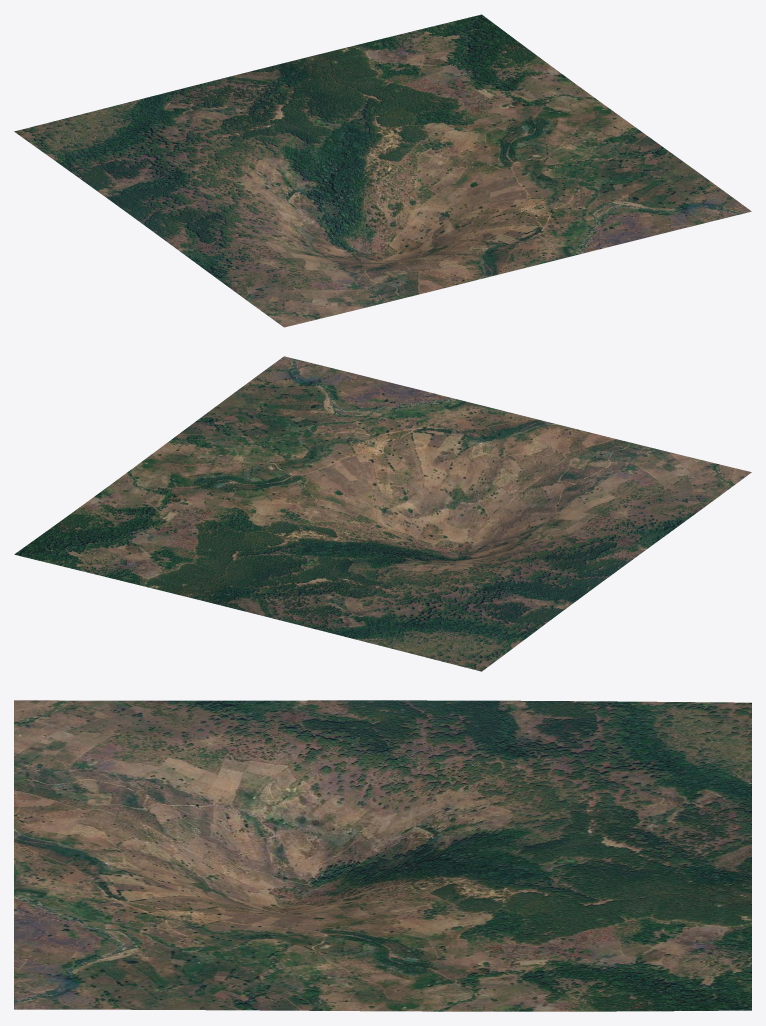
Rendered from terrain_real_T_W05_N01.glb.
3 views of the same model, one above another, from view 1: azimuth 30°, elevation 25°; view 2: azimuth 150°, elevation 25°; view 3: azimuth 270°, elevation 25° (orthographic). The views are drawn at different scales.
Visible parts, largest first — view 1: Terrain_Real_DEM_T_W05_N01; view 2: Terrain_Real_DEM_T_W05_N01; view 3: Terrain_Real_DEM_T_W05_N01.
Boxes of the visible parts, x1=… form: Terrain_Real_DEM_T_W05_N01: x1=14, y1=14, x2=751, y2=327; Terrain_Real_DEM_T_W05_N01: x1=14, y1=356, x2=751, y2=671; Terrain_Real_DEM_T_W05_N01: x1=14, y1=700, x2=751, y2=1011.
Bounding box in the file's own units: 2000 × 213 × 2000.
Materials: 1 (1 with a texture image).
